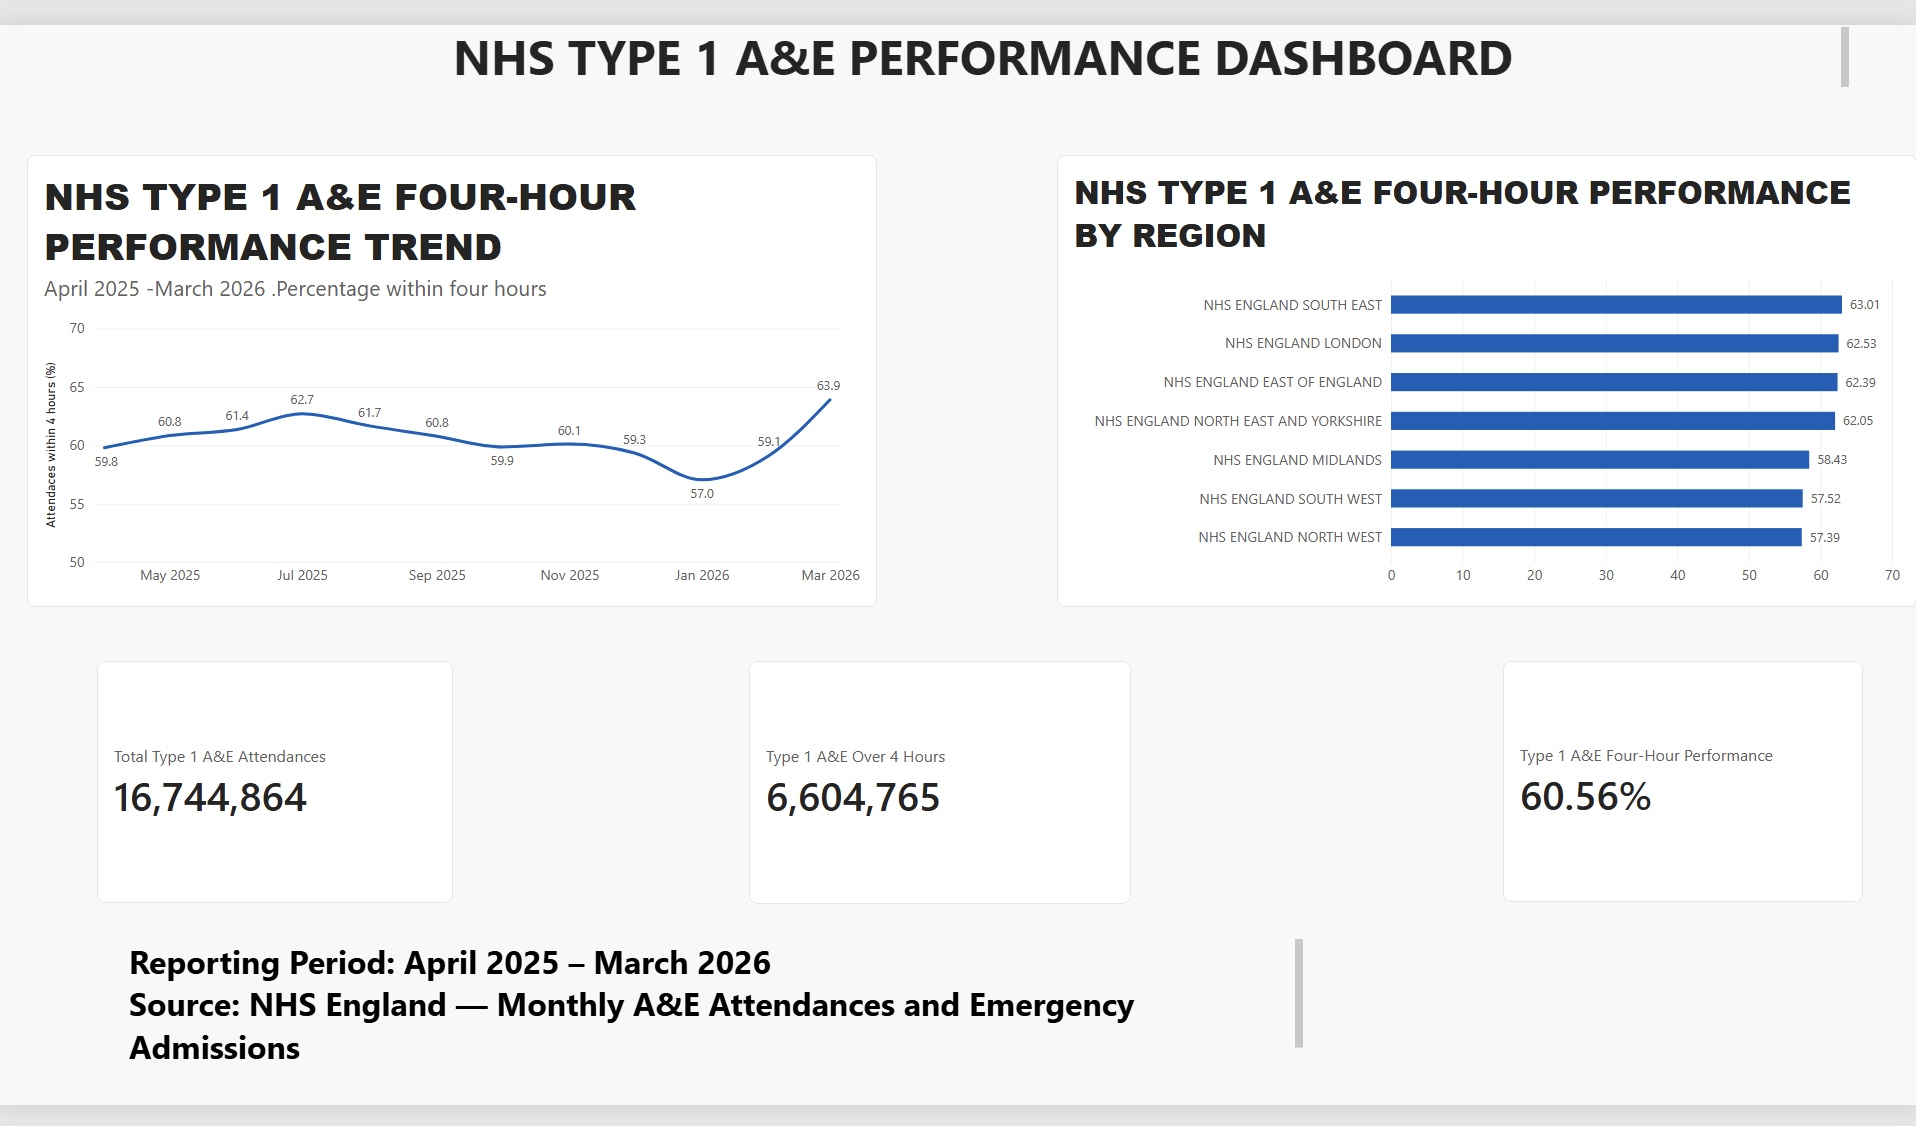

This screenshot's page, from the dashboard's own definition file:
{"tool":"powerbi","page":{"name":"Page 1","canvas":[1920,1080],"ordinal":0},"visuals":[{"type":"lineChart","title":"NHS TYPE 1 A&E FOUR-HOUR PERFORMANCE TREND","fields":{"Category":["monthly_ae_performance.reporting_month"],"Y":["Avg(monthly_ae_performance.four_hour_performance_pct)"]},"box":[30,130,850,452],"z":0},{"type":"clusteredBarChart","title":"NHS TYPE 1 A&E FOUR-HOUR PERFORMANCE BY REGION","fields":{"Category":["regional_ae_performance.region"],"Y":["Avg(regional_ae_performance.four_hour_performance_pct)"]},"box":[1060,130,860,452],"z":1000},{"type":"cardVisual","fields":{"Data":["monthly_ae_performance.Total Attendances DISPLAY"]},"box":[100,636,356,242],"z":2000},{"type":"cardVisual","fields":{"Data":["monthly_ae_performance.Total Over 4 hours DISPLAY"]},"box":[752,636,382.4,243.7],"z":3000},{"type":"cardVisual","fields":{"Data":["monthly_ae_performance.Annual Four Hour Performance"]},"box":[1506,636,360.6,241.7],"z":4000},{"type":"textbox","box":[456,0,1396,62],"z":4001},{"type":"textbox","box":[132,914,1174,126],"z":4002}]}

Visuals, with their boxes on the page's 1920x1080 design canvas (x1, y1, x2, y2). These are canvas units, not pixel positions in the 1916x1126 screenshot, which may show the page scaled, cropped or inside an application window:
"NHS TYPE 1 A&E FOUR-HOUR PERFORMANCE TREND" lineChart: BBox(30, 130, 880, 582)
"NHS TYPE 1 A&E FOUR-HOUR PERFORMANCE BY REGION" clusteredBarChart: BBox(1060, 130, 1920, 582)
cardVisual - monthly_ae_performance.Total Attendances DISPLAY: BBox(100, 636, 456, 878)
cardVisual - monthly_ae_performance.Total Over 4 hours DISPLAY: BBox(752, 636, 1134, 880)
cardVisual - monthly_ae_performance.Annual Four Hour Performance: BBox(1506, 636, 1867, 878)
textbox: BBox(456, 0, 1852, 62)
textbox: BBox(132, 914, 1306, 1040)
